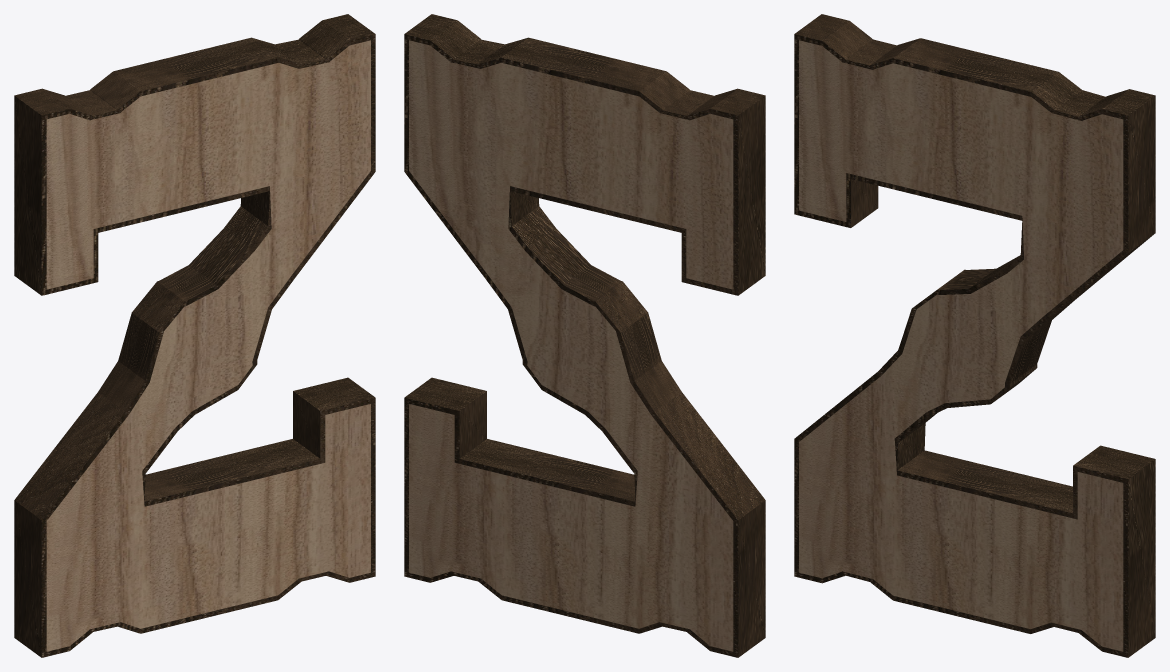
3 views of the same model, side by side, from view 1: azimuth 30°, elevation 25°; view 2: azimuth 150°, elevation 25°; view 3: azimuth 330°, elevation 25° (orthographic).
Visible parts, largest first — view 1: Z, Z_outline; view 2: Z, Z_outline; view 3: Z, Z_outline.
Boxes of the visible parts, x1,y1,x2,y2 form: Z: (46,40,370,651); Z_outline: (14,14,375,657); Z: (409,40,733,651); Z_outline: (404,14,765,657); Z: (799,40,1123,651); Z_outline: (794,14,1155,657).
Size of the model in its own units: 70.1 by 109 by 10.
Materials: 2 (2 with a texture image).
